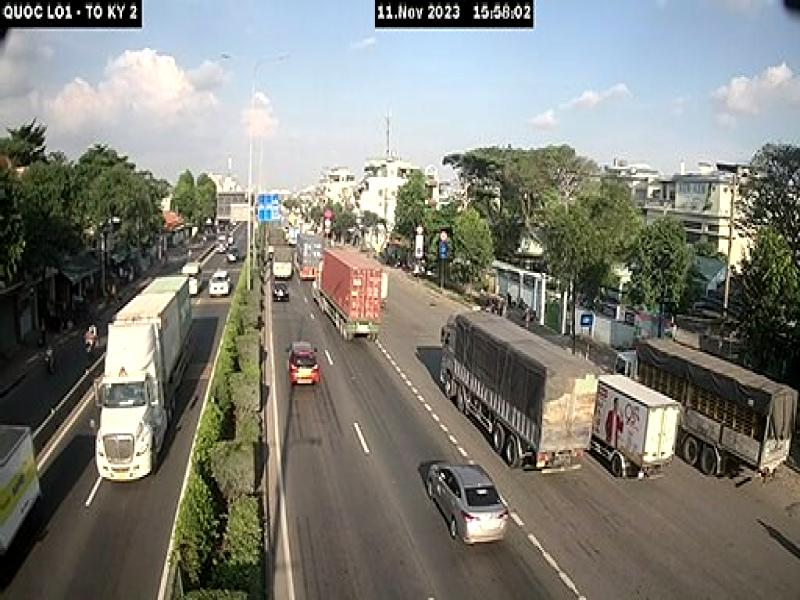truck: (612, 337, 800, 481), (440, 307, 599, 474), (98, 270, 192, 484), (593, 370, 679, 478), (311, 242, 385, 345)
